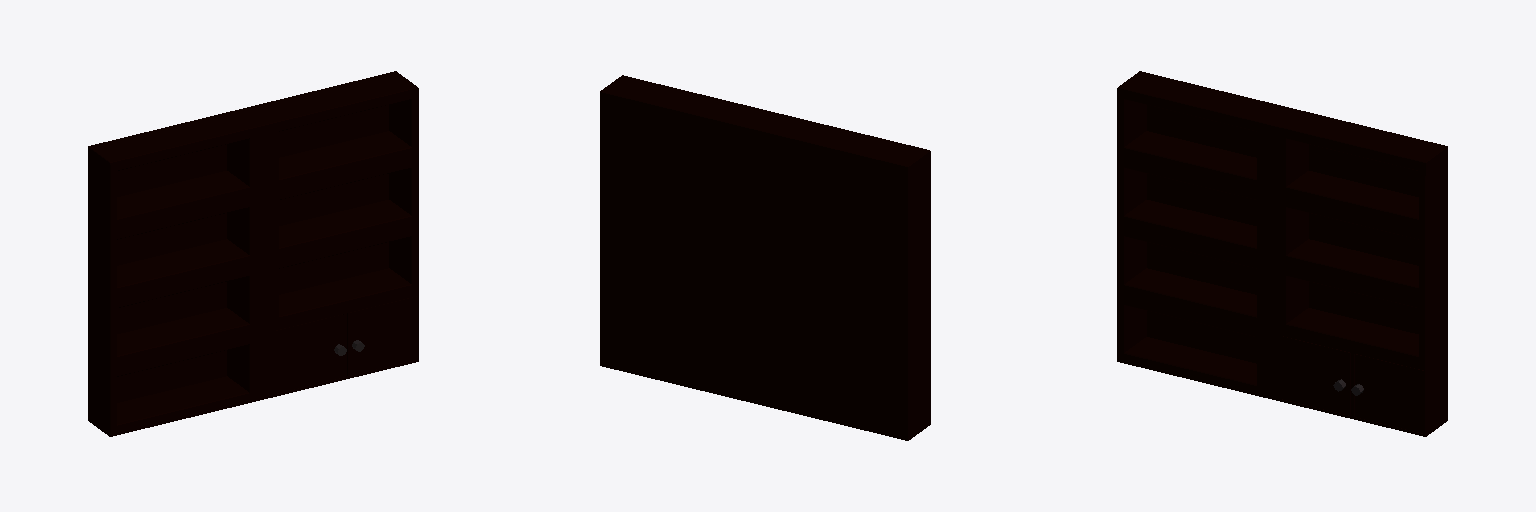
Rendered from MediumBookShelf1.obj.
3 renders of one model, left to right at view 1: azimuth 30°, elevation 25°; view 2: azimuth 150°, elevation 25°; view 3: azimuth 330°, elevation 25°, orthographic.
Visible parts, largest first — view 1: MediumBookShelf1_Cube.010, DoorRight1_MediumBookShelf1_Cube.001, DoorLeft1_MediumBookShelf1_Cube.002; view 2: MediumBookShelf1_Cube.010; view 3: MediumBookShelf1_Cube.010, DoorRight1_MediumBookShelf1_Cube.001, DoorLeft1_MediumBookShelf1_Cube.002.
Part boxes in pixels (left/top/right/bottom): MediumBookShelf1_Cube.010: left=88, top=71, right=418, bottom=436; DoorRight1_MediumBookShelf1_Cube.001: left=274, top=314, right=346, bottom=393; DoorLeft1_MediumBookShelf1_Cube.002: left=347, top=296, right=416, bottom=375; MediumBookShelf1_Cube.010: left=600, top=75, right=930, bottom=440; MediumBookShelf1_Cube.010: left=1117, top=71, right=1447, bottom=436; DoorRight1_MediumBookShelf1_Cube.001: left=1281, top=336, right=1350, bottom=415; DoorLeft1_MediumBookShelf1_Cube.002: left=1351, top=354, right=1423, bottom=433.
Size of the model in its own units: 2.78 by 2.36 by 0.4403.